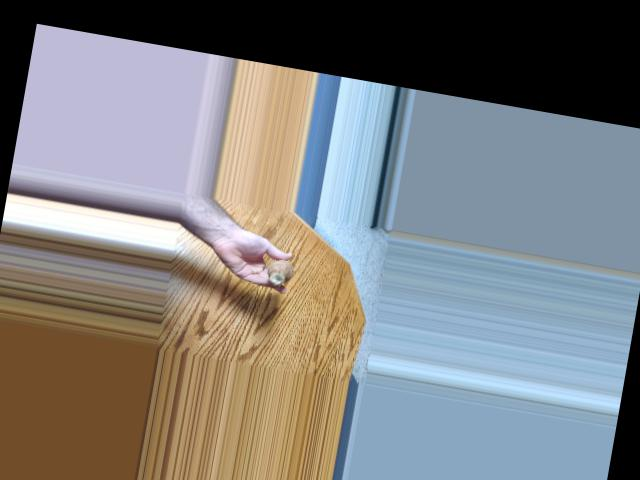sweet_potato: (266, 257, 297, 286)
